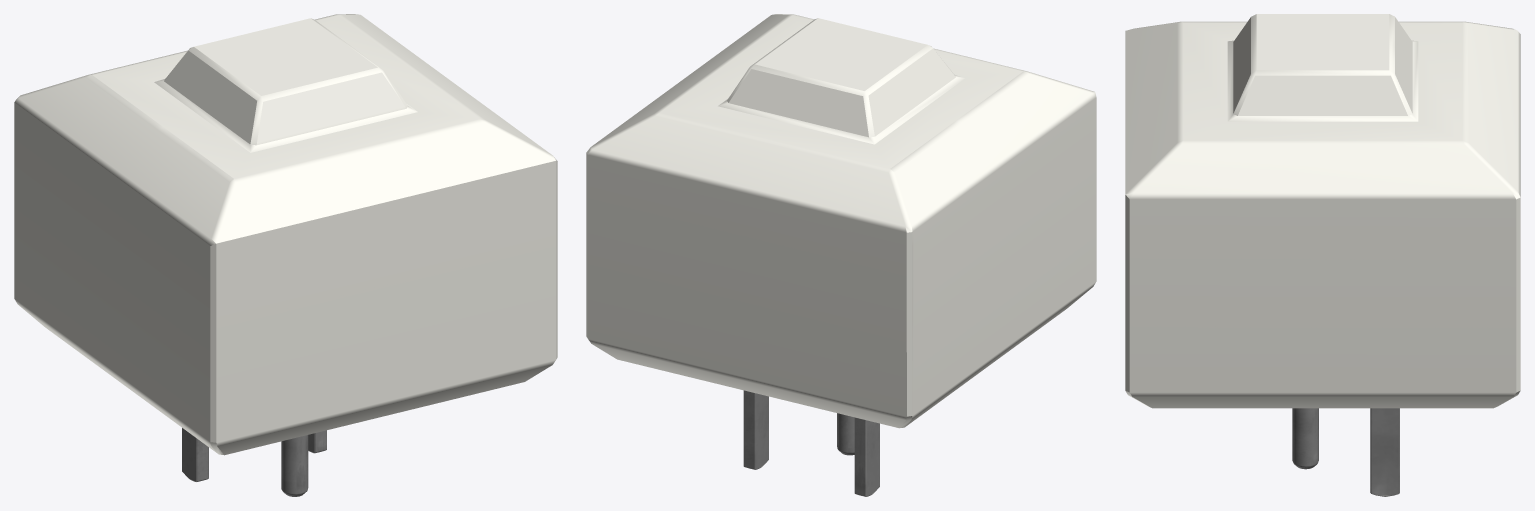
File: concent_ue.fbx
3 renders of one model, left to right at view 1: azimuth 30°, elevation 25°; view 2: azimuth 150°, elevation 25°; view 3: azimuth 270°, elevation 25°, orthographic. The views are drawn at different scales.
Visible parts, largest first — view 1: pCube23, pCylinder1, pCube26; view 2: pCube23, pCube27, pCube26, pCylinder1; view 3: pCube23, pCube27, pCylinder1.
Part boxes in pixels (x1,y1,x2,y2): pCube23: [14, 14, 557, 455]; pCylinder1: [281, 435, 308, 496]; pCube26: [182, 428, 208, 481]; pCube23: [586, 14, 1096, 428]; pCube27: [743, 390, 768, 469]; pCube26: [854, 417, 879, 496]; pCylinder1: [837, 413, 854, 455]; pCube23: [1125, 14, 1520, 408]; pCube27: [1370, 408, 1399, 496]; pCylinder1: [1292, 408, 1318, 469].
Bounding box in the file's own units: 0.5 × 0.5928 × 0.5.
Materials: 1 (1 with a texture image).
